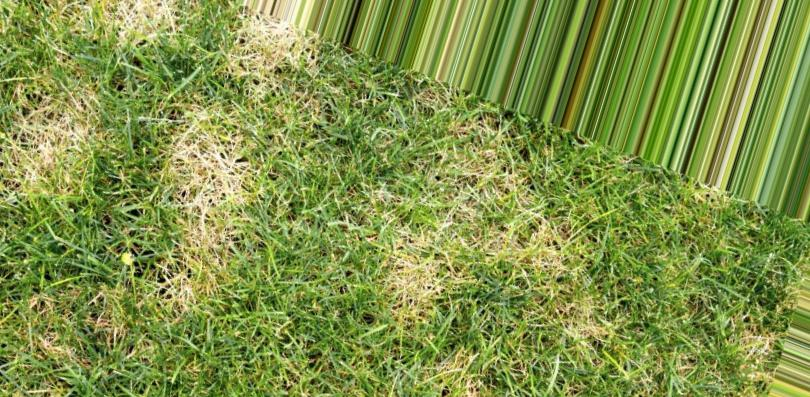patch: (187, 138, 236, 196), (250, 17, 310, 61), (409, 243, 433, 287), (487, 218, 520, 247), (53, 127, 83, 155), (113, 7, 156, 24)
